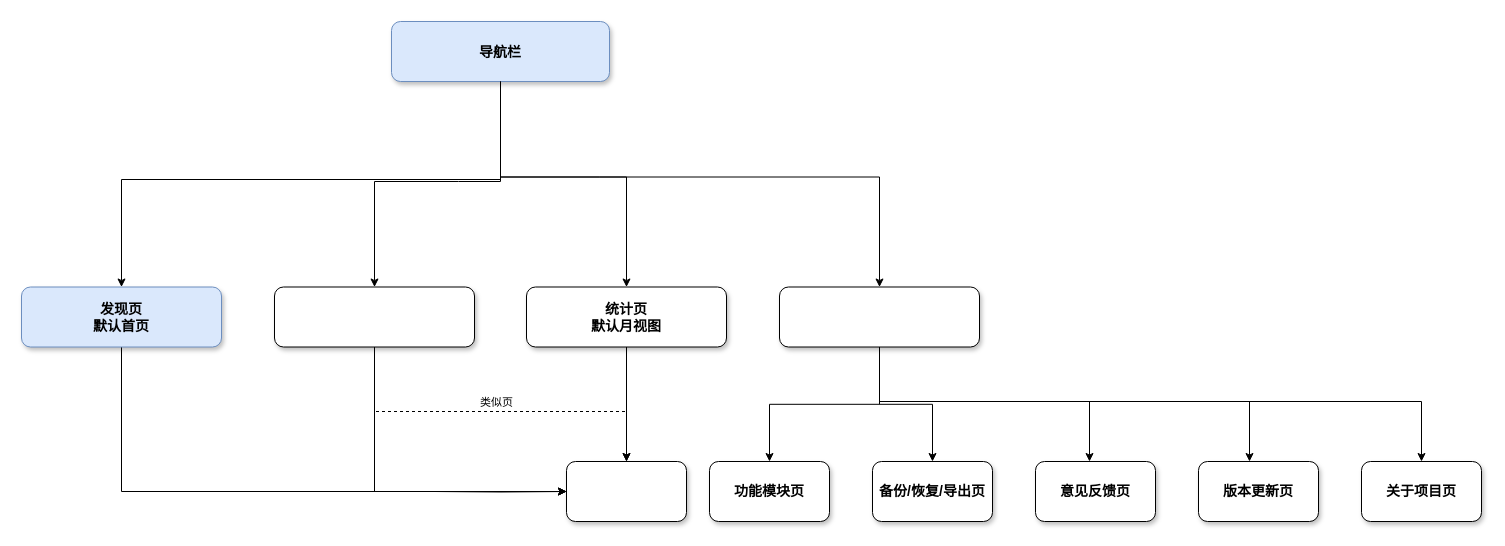
Image size: 1505x546. Some labels were removed from this diagram. Here are the shapes that lost their labels. From the top down, the centre of each, then its label:
At point 375,318: "记录页 添加记录".
At point 880,318: "设置页".
At point 627,492: "编辑记录页".
